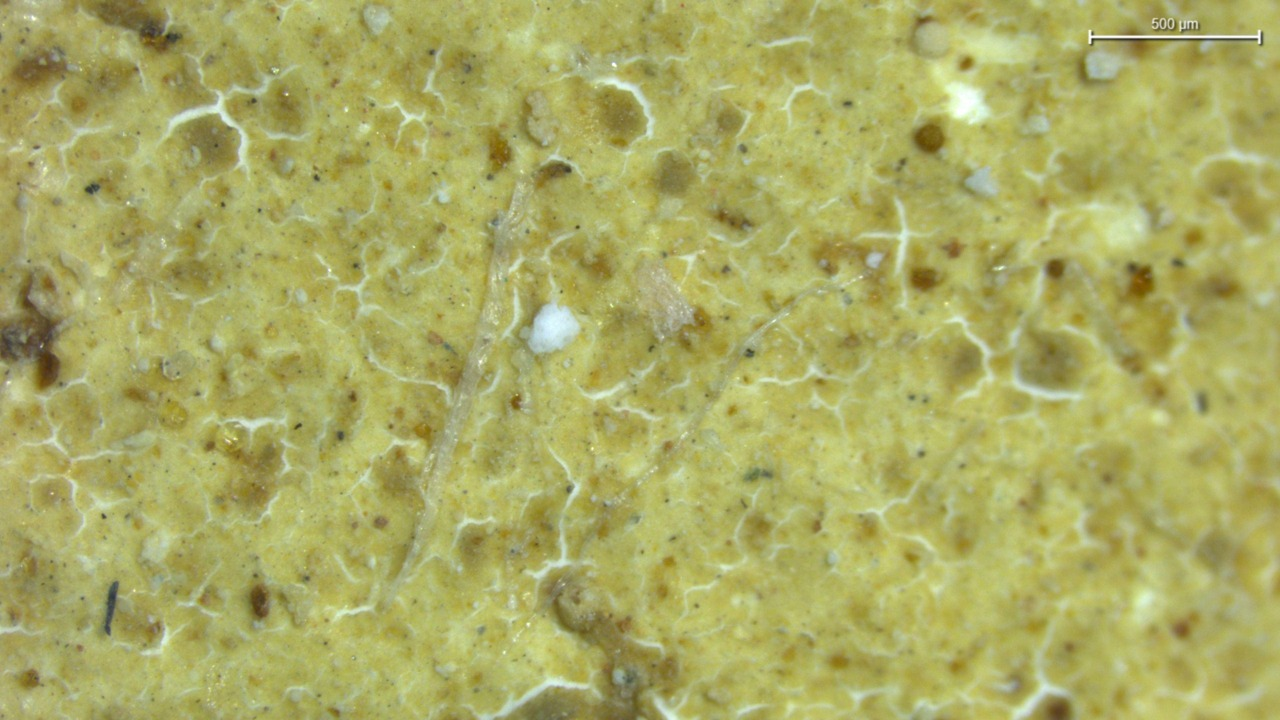microplastic_fragment: (528, 302, 580, 354), (964, 166, 999, 197)
